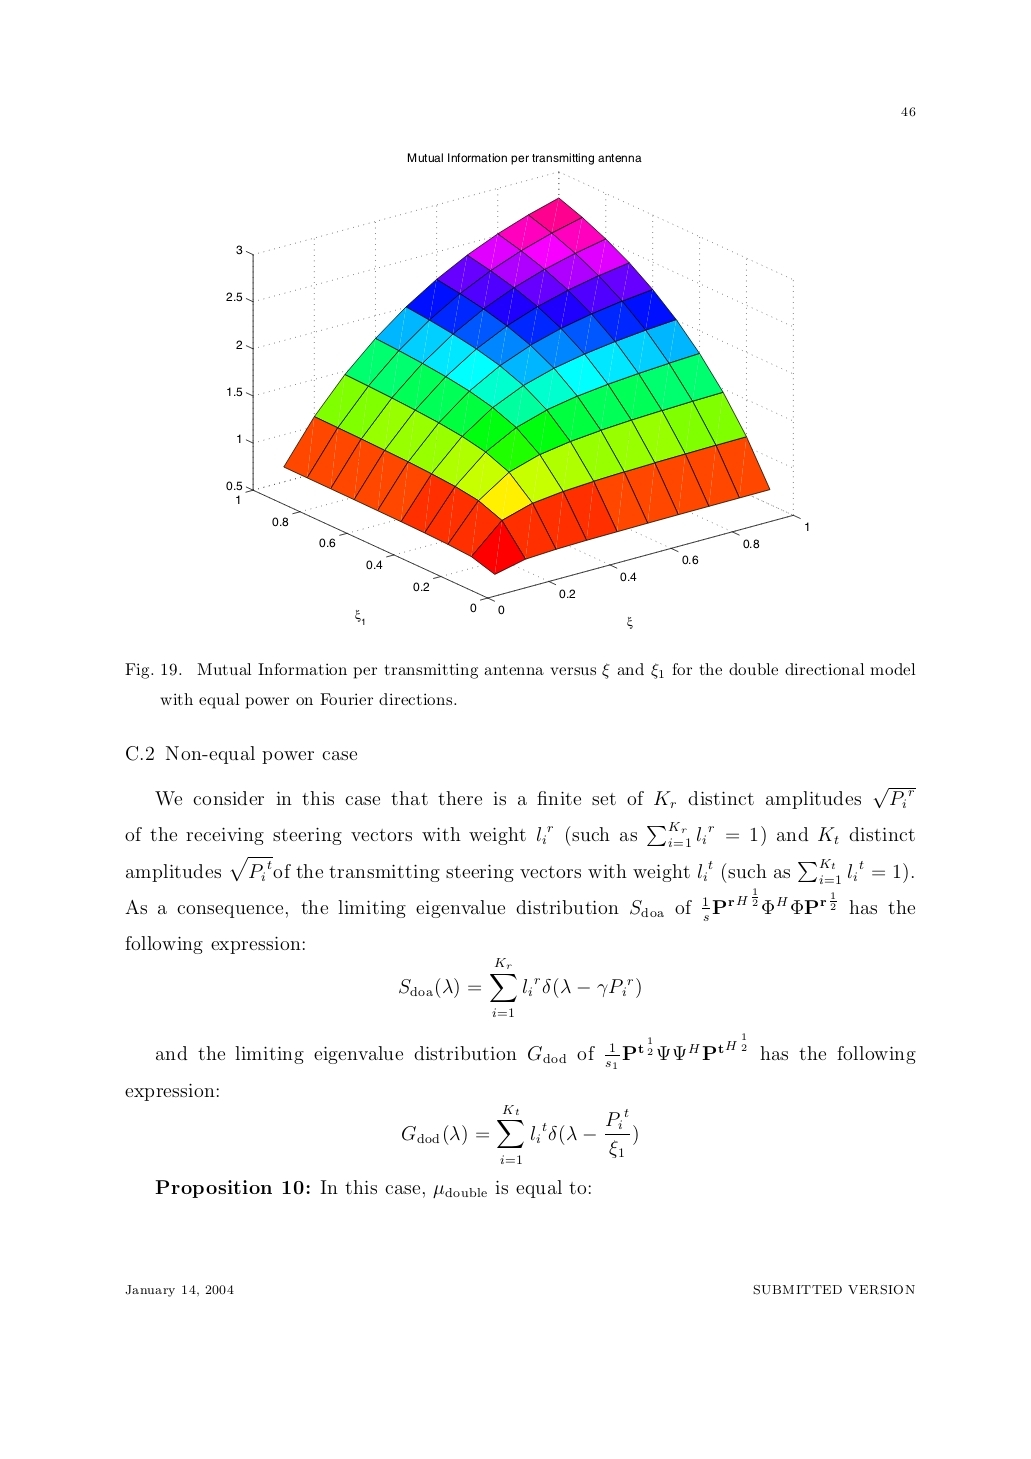figure: (227, 170, 808, 629)
formula: (402, 1104, 637, 1165), (399, 958, 640, 1016)
